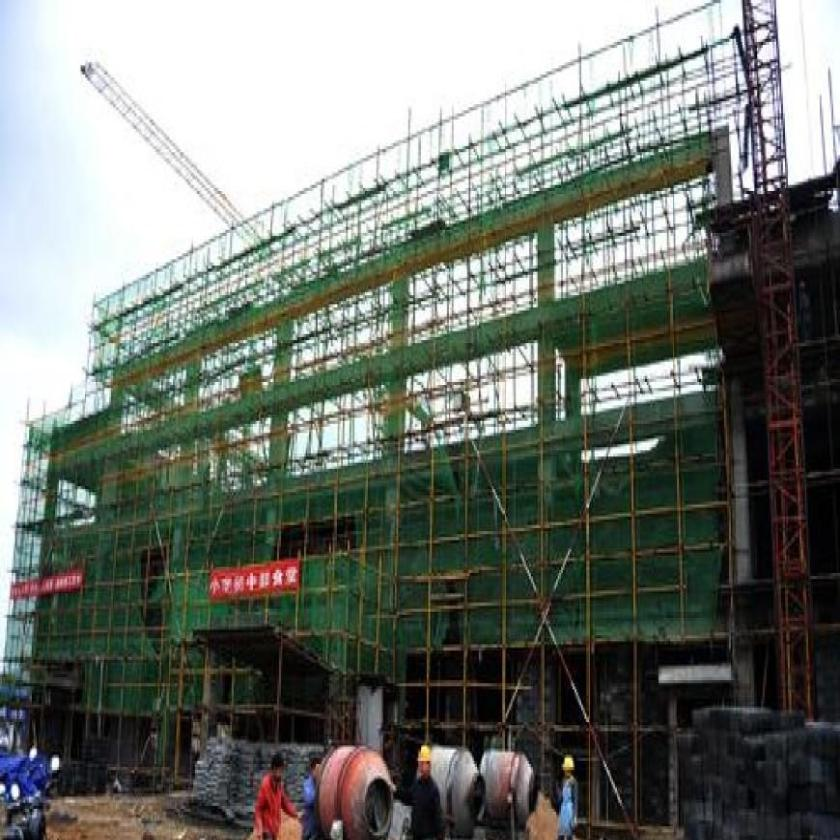Con_casco: (415, 744, 437, 786)
